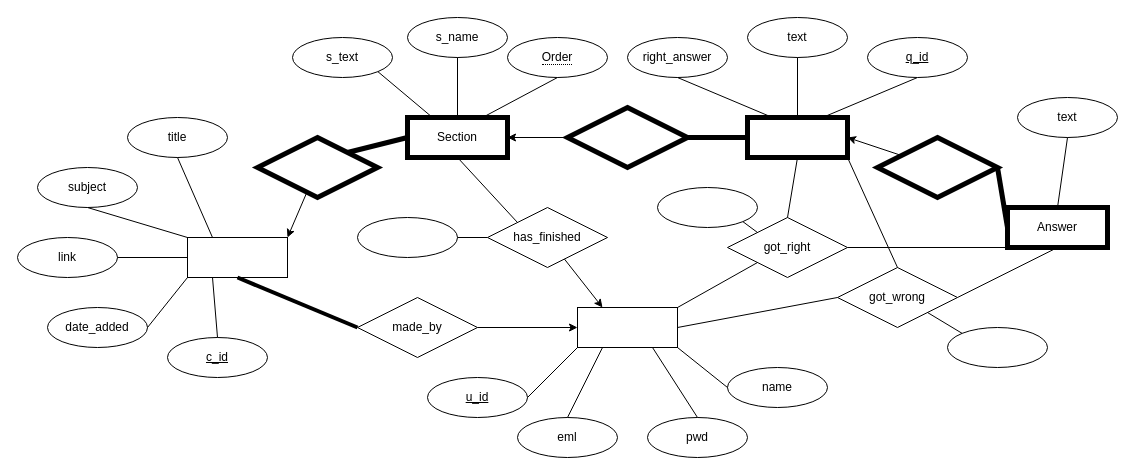
The diagram is 1135 pixels wide and 475 high, and some of its shapes have lost their labels. The shapes that lost their labels are listed below. From the top down, each one's box as (x1, y1, x2, y2) in pixels, then its label:
(564, 104, 690, 170): in_section
(744, 114, 850, 160): Question
(254, 134, 380, 200): in_course
(874, 134, 1000, 200): answer_of
(656, 186, 758, 228): r_date
(186, 236, 288, 278): Course
(356, 216, 458, 258): f_date
(576, 306, 678, 348): User
(946, 326, 1048, 368): w_date
